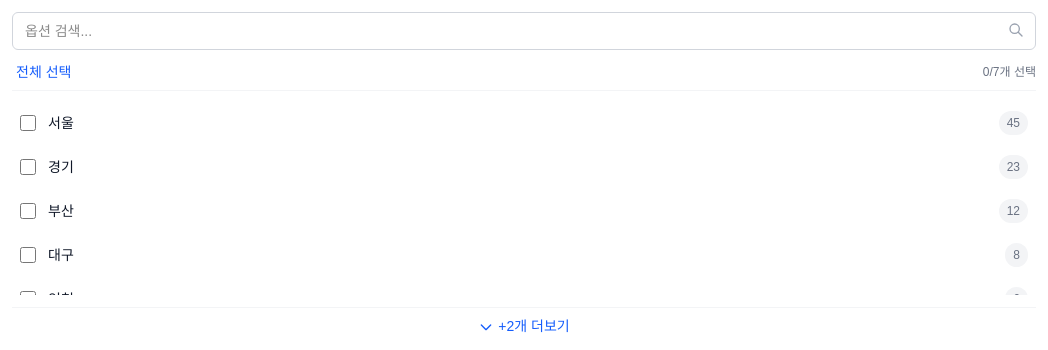
Test case: CheckboxFilter › should show no results message when search has no matches
Type "존재하지않는도시" into the field with placeholder "옵션 검색...".
click(524, 31); type("존재하지않는도시")  # box [12,12,1036,50]
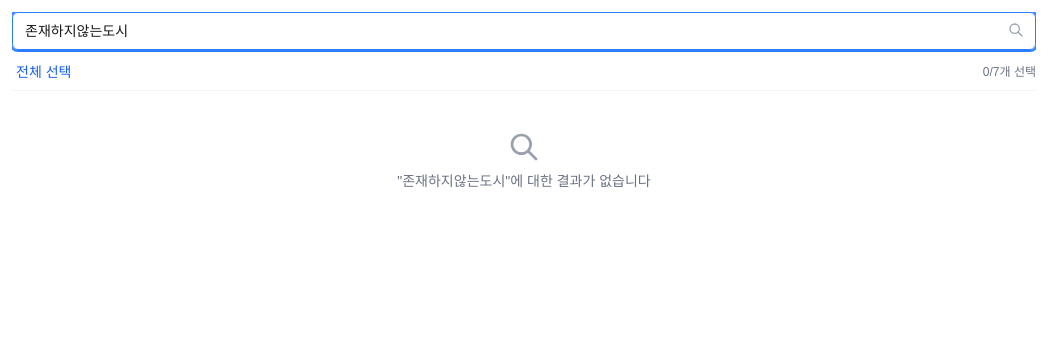
Expected: the text "\"존재하지않는도시\"에 대한 결과가 없습니다" is shown, [397,131,651,189]
